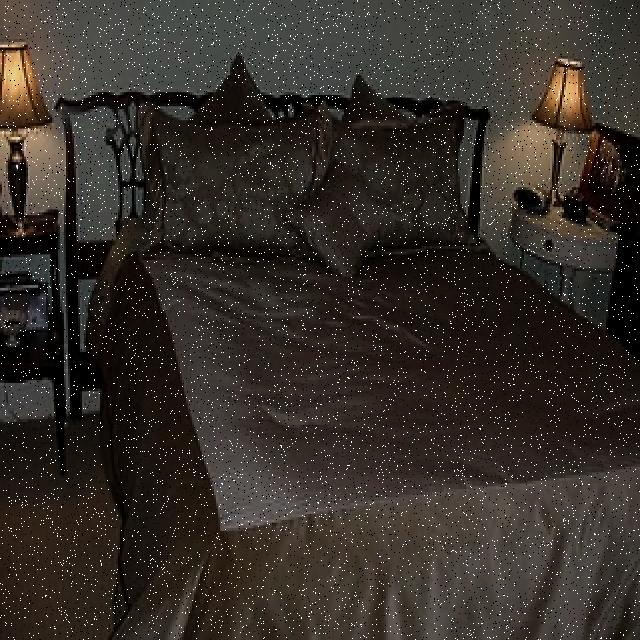bed: (66, 74, 640, 640)
